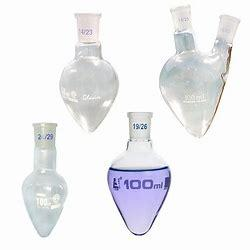Pear shaped flask: (151, 5, 246, 140), (106, 93, 171, 232), (56, 8, 117, 132), (20, 107, 65, 242)
